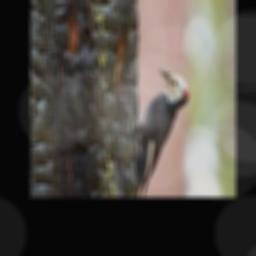Woodpecker: (126, 64, 188, 198)
